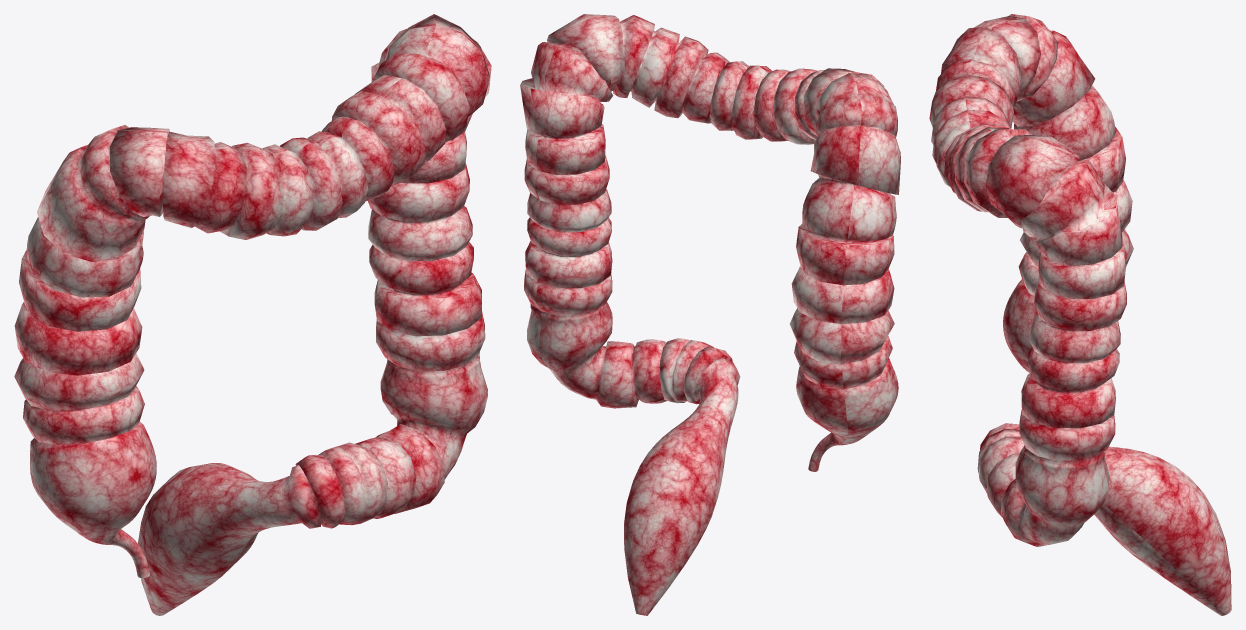
File: intestin.gltf
3 views of the same model, side by side, from view 1: azimuth 30°, elevation 25°; view 2: azimuth 150°, elevation 25°; view 3: azimuth 270°, elevation 25° (orthographic). The views are drawn at different scales.
Visible parts, largest first — view 1: NurbsPath.001; view 2: NurbsPath.001; view 3: NurbsPath.001.
Part boxes in pixels (bbox=[...]): NurbsPath.001: bbox=[14, 14, 491, 615]; NurbsPath.001: bbox=[520, 14, 900, 615]; NurbsPath.001: bbox=[929, 14, 1231, 615].
Size of the model in its own units: 0.2571 by 0.3401 by 0.1699.
Materials: 1 (1 with a texture image).
